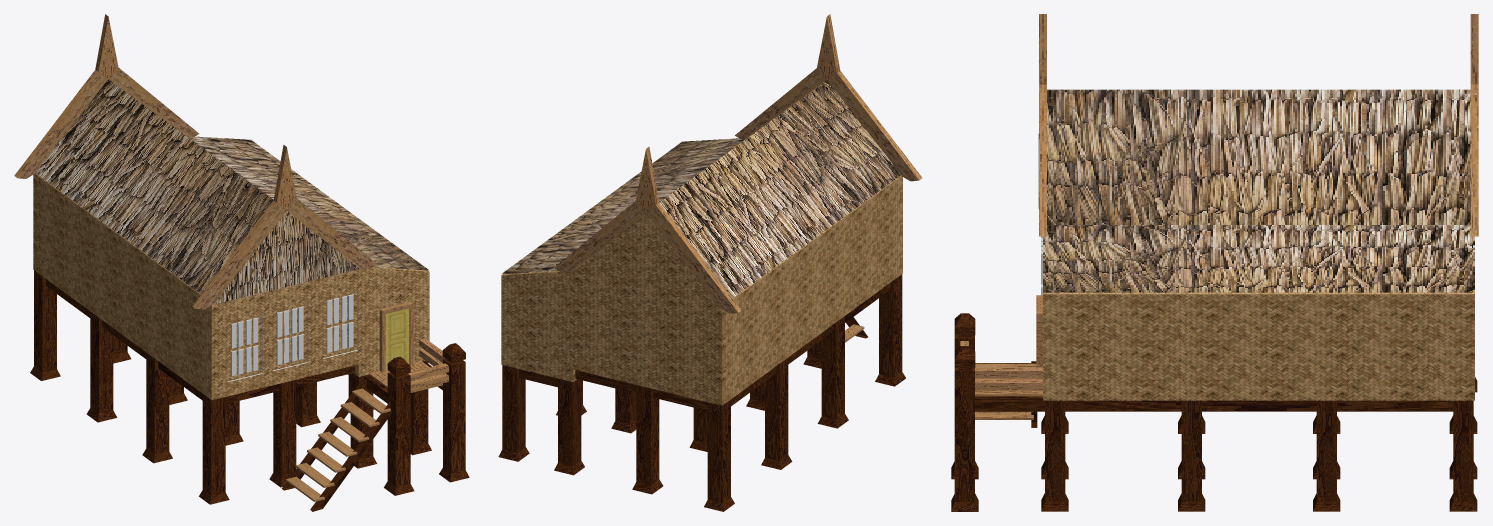
File: rumah.gltf
The picture shows the model from 3 angles, left to right: view 1: azimuth 30°, elevation 25°; view 2: azimuth 150°, elevation 25°; view 3: azimuth 270°, elevation 25°; orthographic projection. The views are drawn at different scales.
Visible parts, largest first — view 1: Cube, Cube.002, Cube.001, Plane.007, porchPole, Cube.005, Cube.006, Cube.003, Plane, Plane.002, Plane.003, Plane.004 (+3 smaller); view 2: Cube, Cube.002, Cube.001, Plane.007, Cube.003; view 3: Cube.002, Cube, Cube.001, Cube.003, porchPole, Plane.007, PorchRailing, Cube.004.
Part boxes in pixels (box(x1,y1,x2,y2)): Cube: box(33, 173, 429, 400); Cube.002: box(35, 79, 428, 294); Cube.001: box(30, 270, 431, 504); Plane.007: box(14, 14, 377, 309); porchPole: box(384, 343, 469, 495); Cube.005: box(214, 211, 359, 304); Cube.006: box(286, 388, 390, 501); Cube.003: box(46, 279, 442, 403); Plane: box(282, 379, 392, 511); Plane.002: box(273, 301, 308, 370); Plane.003: box(323, 289, 358, 358); Plane.004: box(227, 312, 262, 381); Cube: box(501, 175, 902, 405); Cube.002: box(502, 80, 900, 298); Cube.001: box(498, 274, 905, 511); Plane.007: box(554, 14, 922, 313); Cube.003: box(519, 283, 890, 410); Cube.002: box(1043, 89, 1474, 292); Cube: box(1043, 292, 1474, 400); Cube.001: box(1041, 377, 1477, 511); Cube.003: box(975, 363, 1453, 411); porchPole: box(951, 313, 978, 511); Plane.007: box(1039, 14, 1478, 236); PorchRailing: box(960, 341, 1042, 390); Cube.004: box(975, 363, 1042, 396).
Bounding box in the file's own units: 10.37 × 14.2 × 16.48.
5 materials, 5 textured.
